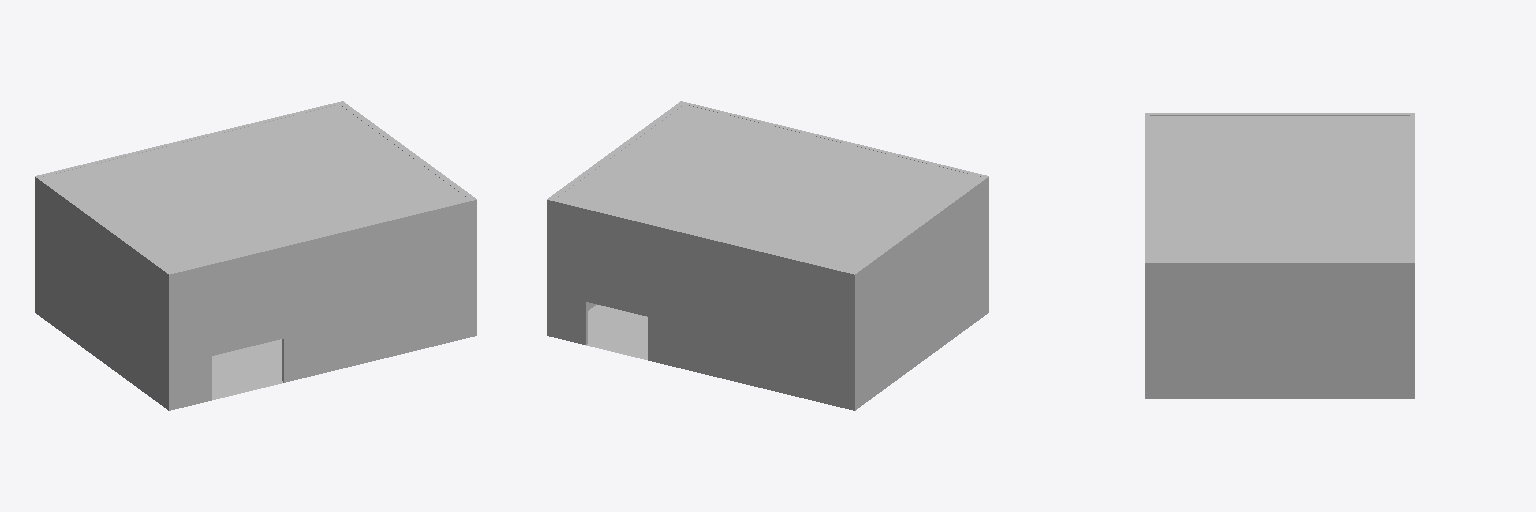
Rendered from supermarket.obj.
The picture shows the model from 3 angles: view 1: azimuth 30°, elevation 25°; view 2: azimuth 150°, elevation 25°; view 3: azimuth 270°, elevation 25°; orthographic projection.
Visible parts, largest first — view 1: supermarket2:group_pasted__group1_pasted__pasted__pCube1; view 2: supermarket2:group_pasted__group1_pasted__pasted__pCube1; view 3: supermarket2:group_pasted__group1_pasted__pasted__pCube1.
Part boxes in pixels (left/top/right/bottom): supermarket2:group_pasted__group1_pasted__pasted__pCube1: left=35, top=101, right=476, bottom=410; supermarket2:group_pasted__group1_pasted__pasted__pCube1: left=547, top=101, right=988, bottom=410; supermarket2:group_pasted__group1_pasted__pasted__pCube1: left=1145, top=113, right=1414, bottom=398.
Bounding box in the file's own units: 81.64 × 34.47 × 61.75.